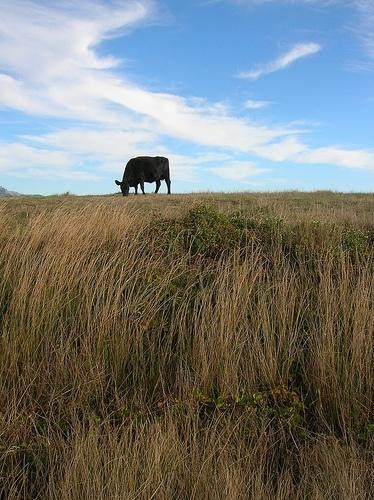cow: (114, 155, 174, 199)
